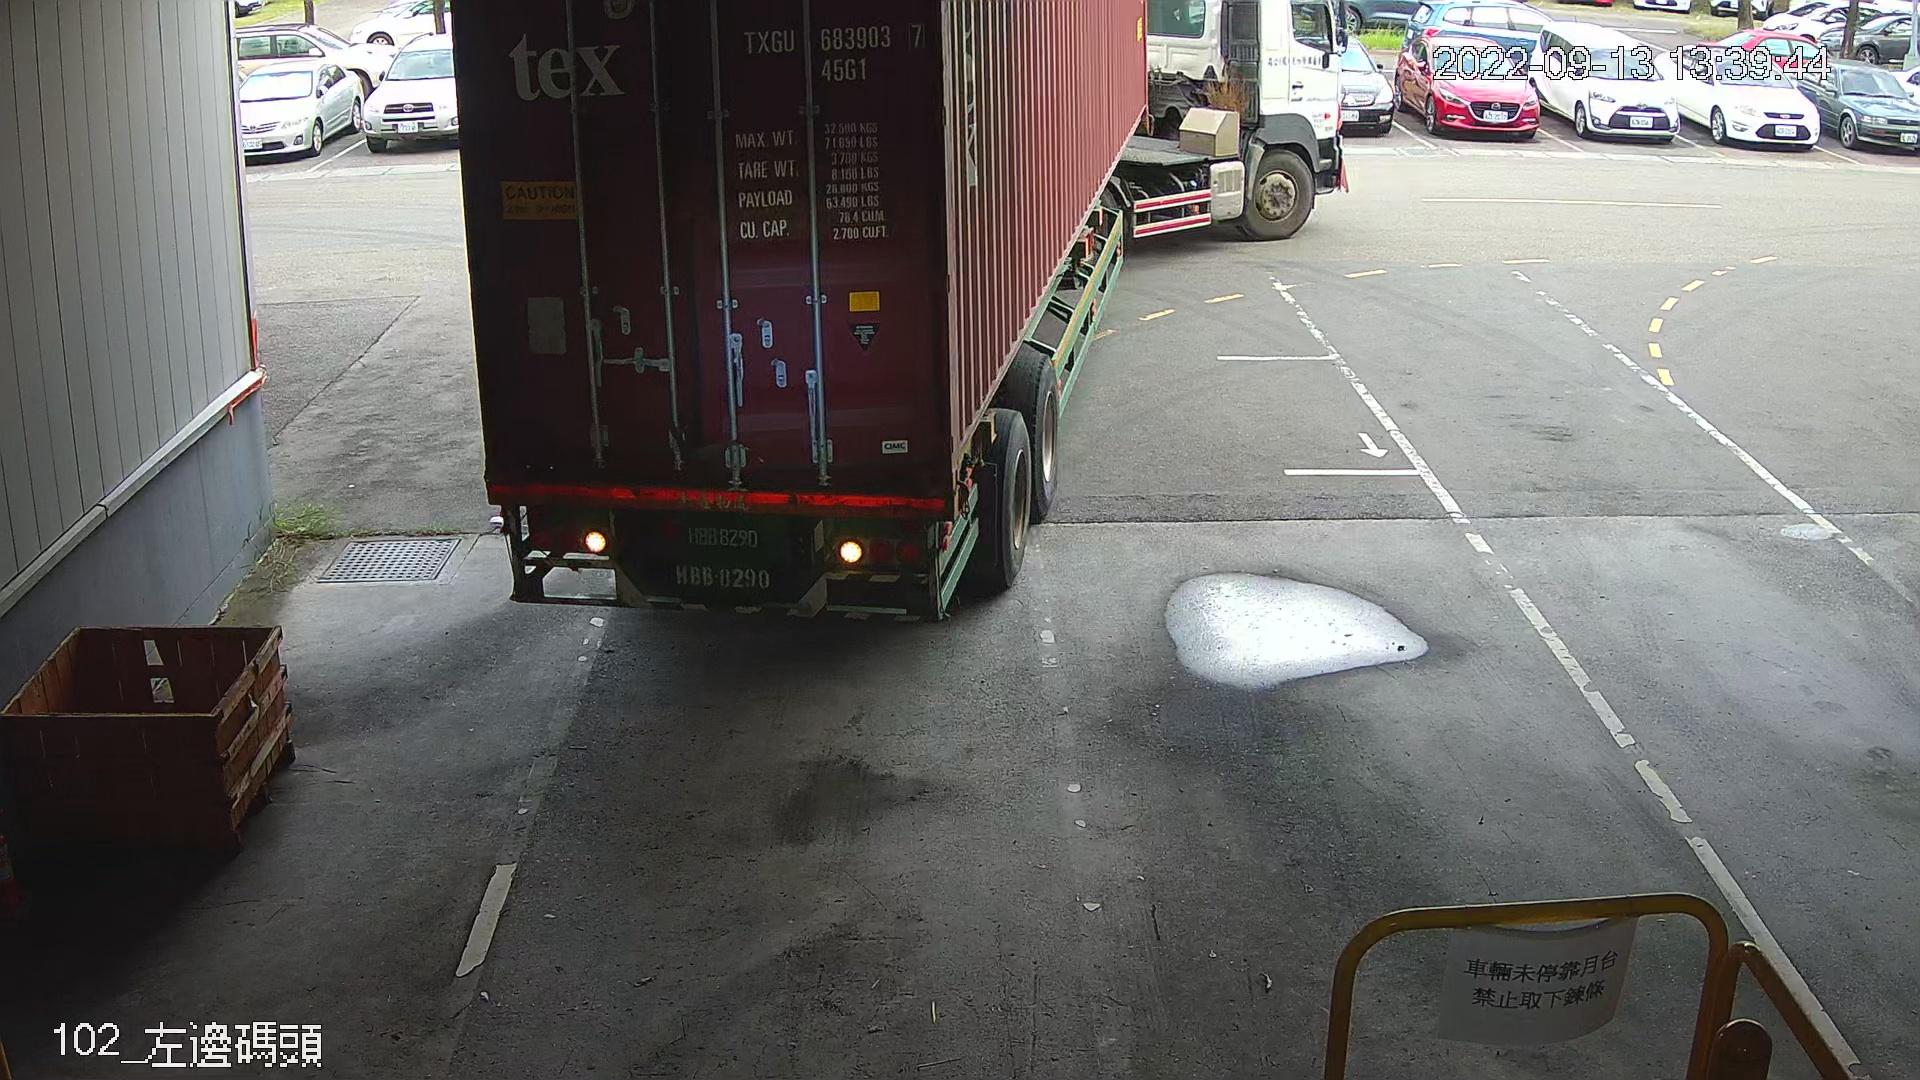container: (735, 16, 934, 86)
